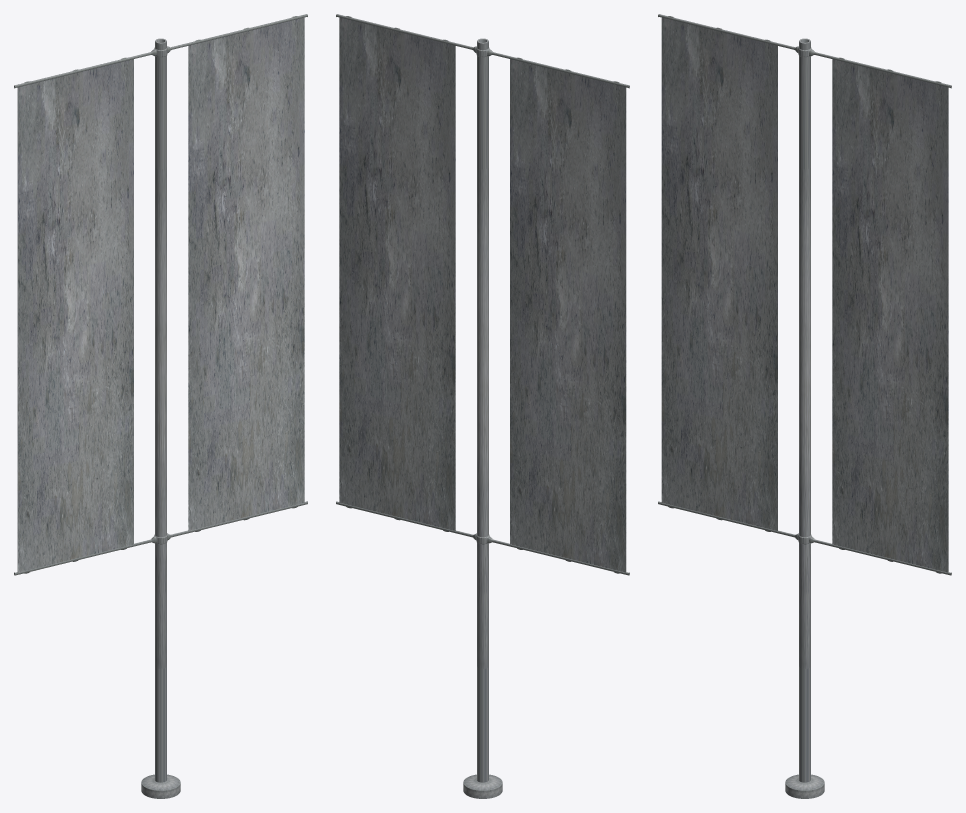
The model's file is banner_e.gltf.
3 views of the same model, side by side, from view 1: azimuth 30°, elevation 25°; view 2: azimuth 150°, elevation 25°; view 3: azimuth 330°, elevation 25° (orthographic).
Visible parts, largest first — view 1: imageContainer.005, Disc.008; view 2: imageContainer.005, Disc.008; view 3: imageContainer.005, Disc.008.
Part boxes in pixels (x1,y1,x2,y2): imageContainer.005: (17, 17, 304, 572); Disc.008: (14, 14, 307, 798); imageContainer.005: (339, 17, 626, 572); Disc.008: (336, 14, 629, 798); imageContainer.005: (661, 17, 948, 572); Disc.008: (658, 14, 951, 798).
Size of the model in its own units: 106 by 259 by 12.32.
Materials: 1 (1 with a texture image).
